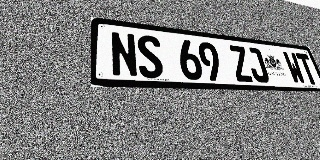6: (176, 39, 204, 80)
9: (197, 41, 224, 81)
J: (244, 47, 270, 83)
N: (110, 31, 139, 78)
S: (136, 34, 165, 79)
T: (295, 53, 319, 85)
W: (282, 51, 307, 84)
Z: (228, 45, 254, 82)
